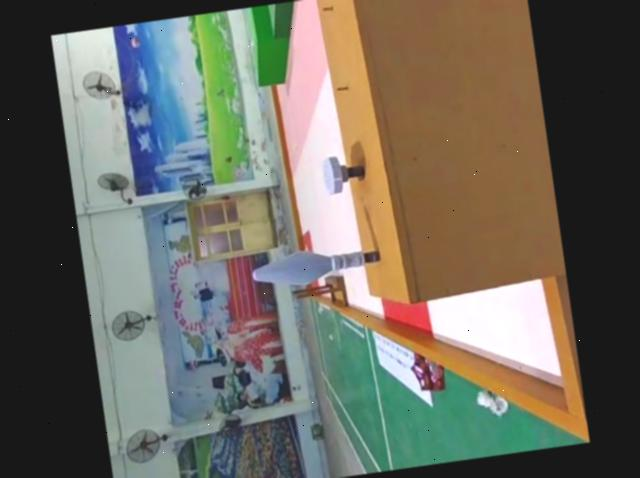Hand: (320, 151, 366, 198)
Sph: (250, 240, 388, 293)
